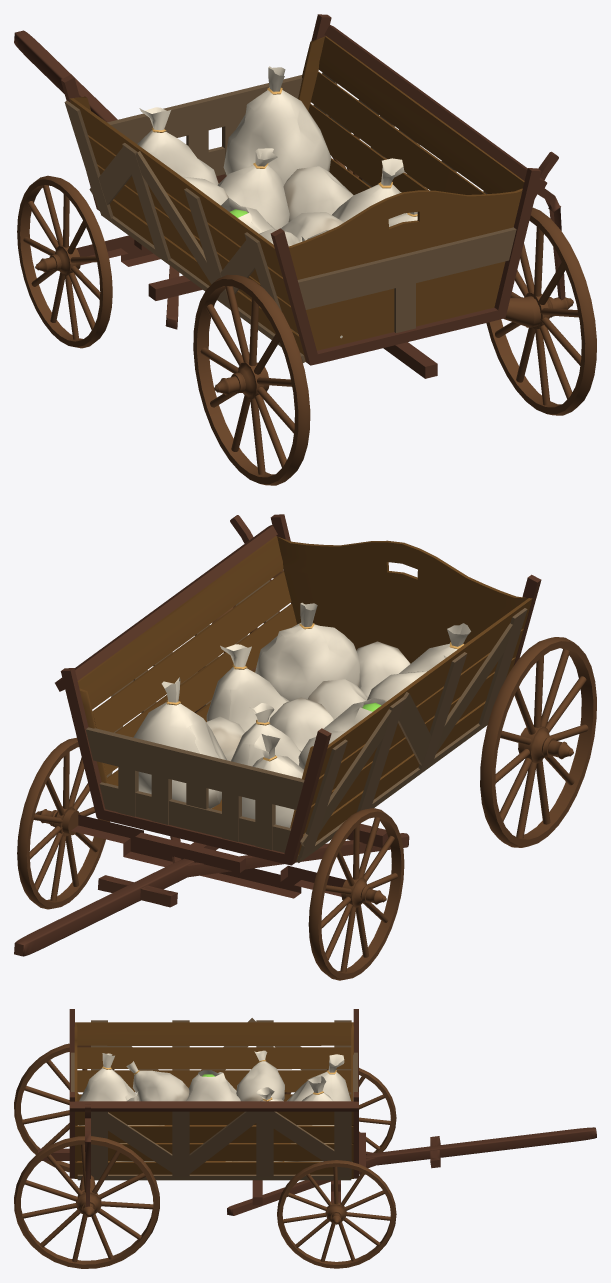
The model's file is Chariot-assemblé_AvecSac.glb.
3 renders of one model, top to bottom at view 1: azimuth 30°, elevation 25°; view 2: azimuth 150°, elevation 25°; view 3: azimuth 270°, elevation 25°, orthographic. The views are drawn at different scales.
Visible parts, largest first — view 1: Sac; view 2: Sac; view 3: Sac.
Boxes of the visible parts, bbox=[...] form: Sac: bbox=[14, 14, 596, 485]; Sac: bbox=[14, 514, 596, 980]; Sac: bbox=[14, 1009, 596, 1268].
Bounding box in the file's own units: 5.32 × 3.62 × 11.06.
Materials: 7 (1 with a texture image).
